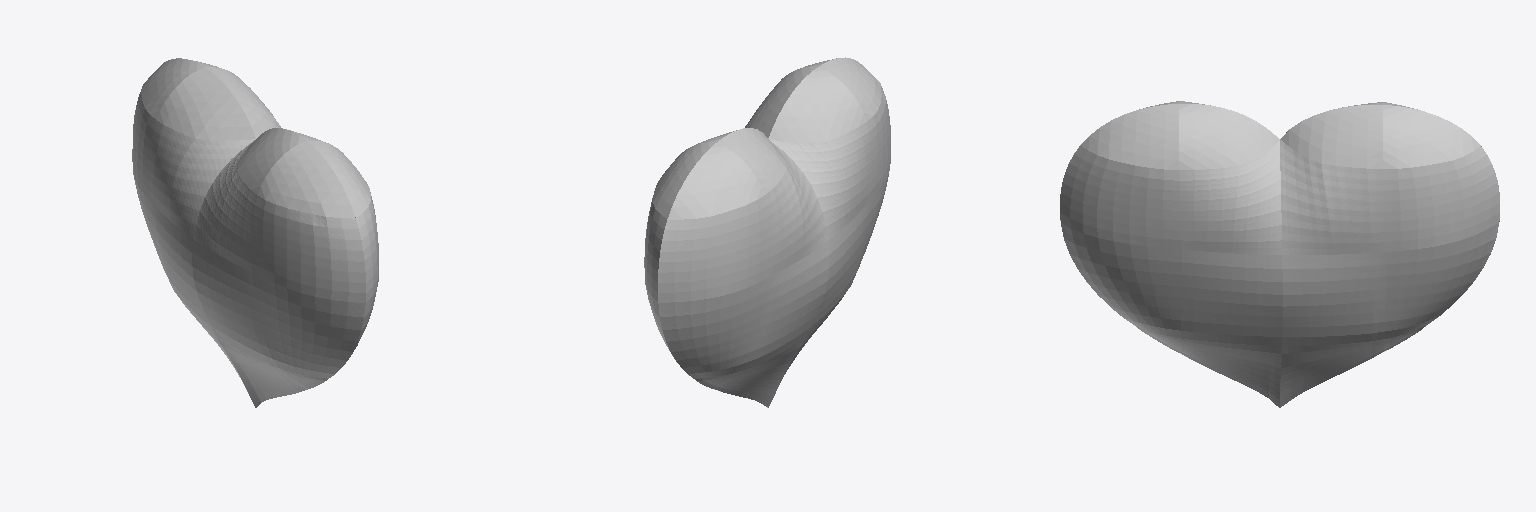
File: heart.obj
3 views of the same model, side by side, from view 1: azimuth 30°, elevation 25°; view 2: azimuth 150°, elevation 25°; view 3: azimuth 270°, elevation 25° (orthographic).
Parts seen in each view (by area): view 1: Heart; view 2: Heart; view 3: Heart.
Part boxes in pixels (x1,y1,x2,y2): Heart: (132, 58, 378, 407); Heart: (644, 57, 890, 407); Heart: (1060, 101, 1499, 407).
Bounding box in the file's own units: 13354 × 31080 × 40758.